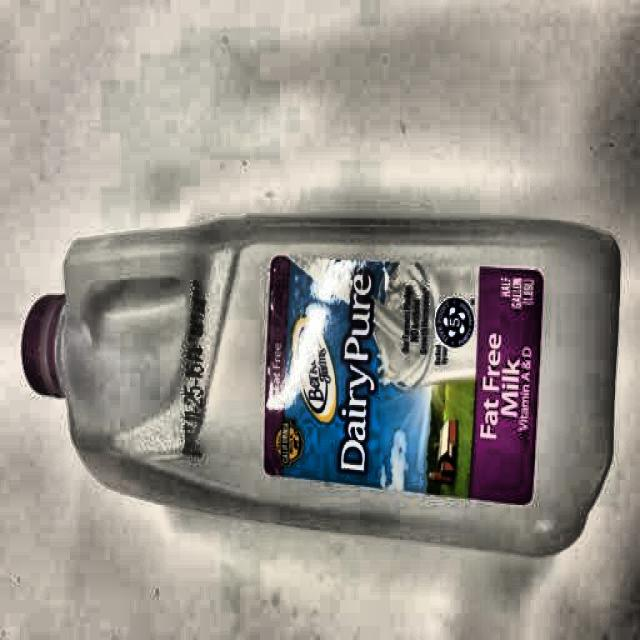plastic: (19, 215, 618, 558)
